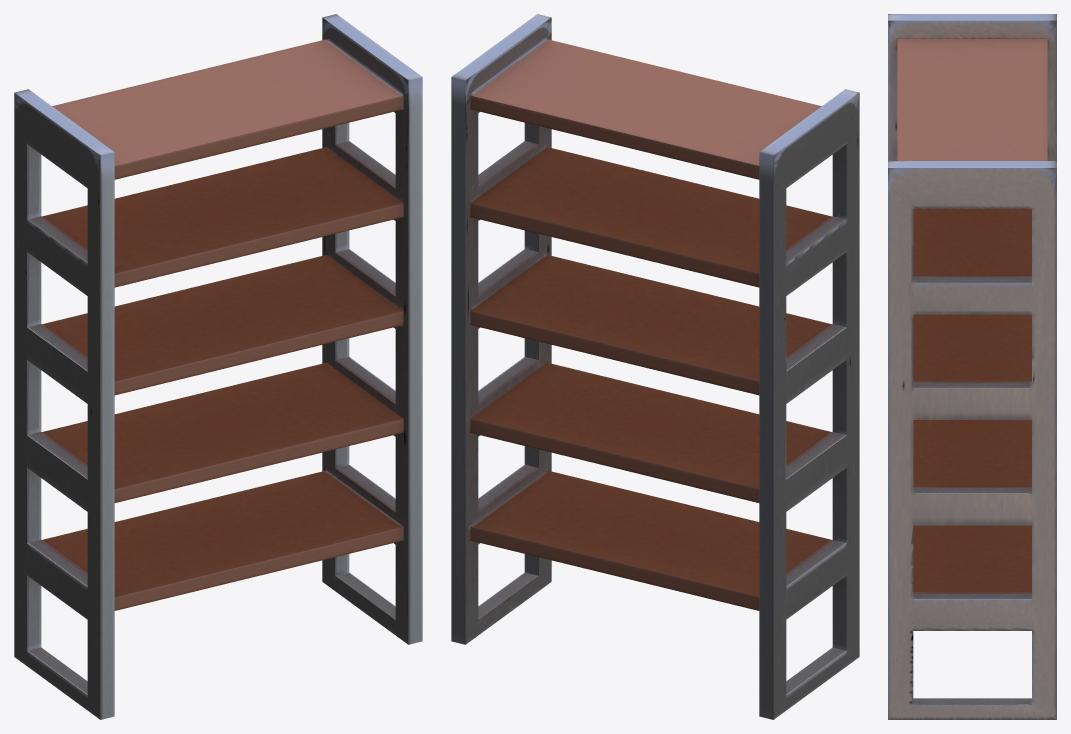
File: shelf02.fbx
3 views of the same model, side by side, from view 1: azimuth 30°, elevation 25°; view 2: azimuth 150°, elevation 25°; view 3: azimuth 270°, elevation 25° (orthographic). The views are drawn at different scales.
Visible parts, largest first — view 1: shelving; view 2: shelving; view 3: shelving.
Part boxes in pixels (x1,y1,x2,y2): shelving: (14,14,422,719); shelving: (451,14,859,719); shelving: (888,14,1056,719).
Size of the model in its own units: 1 by 0.4658 by 1.68.
1 material, 1 textured.
